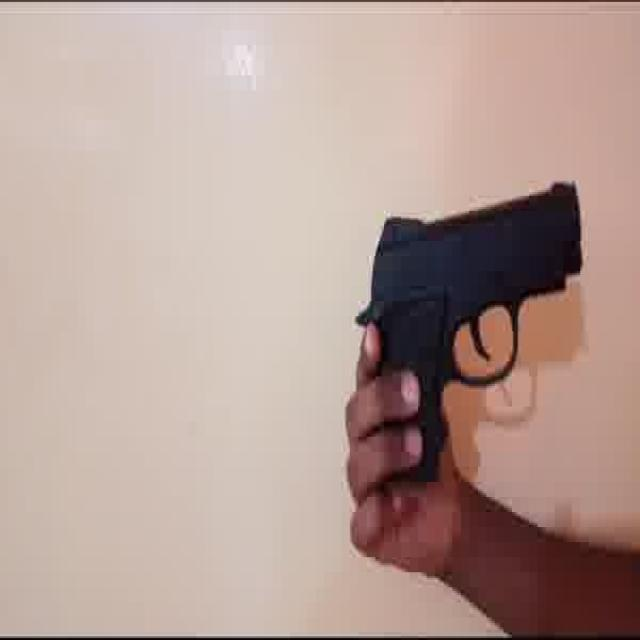weapon: (356, 177, 584, 482)
